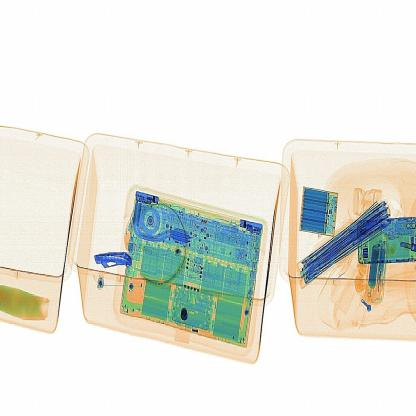knife: (87, 247, 139, 280)
